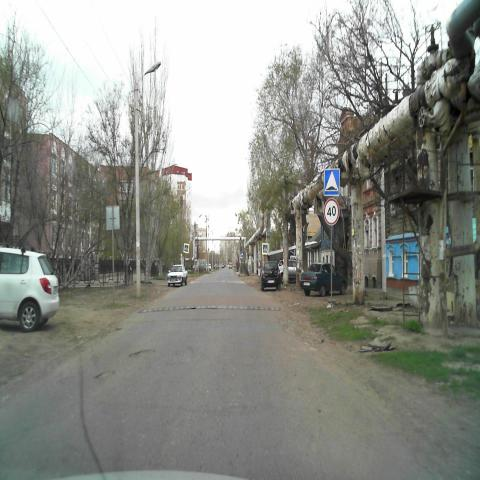3_24: (323, 199, 339, 225)
